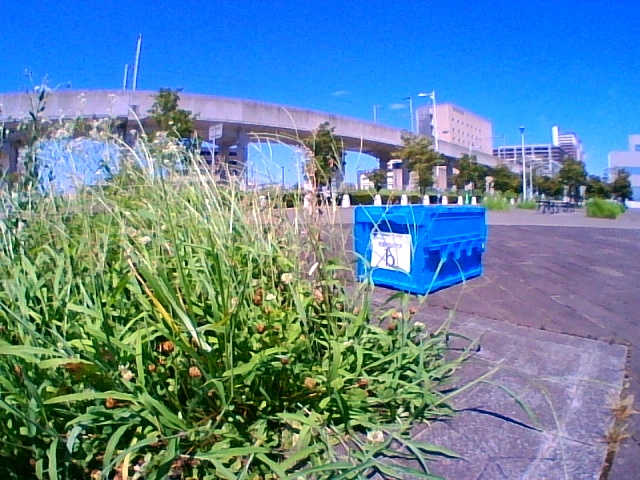blue_box: (357, 206, 481, 276)
tag_b: (375, 234, 405, 268)
